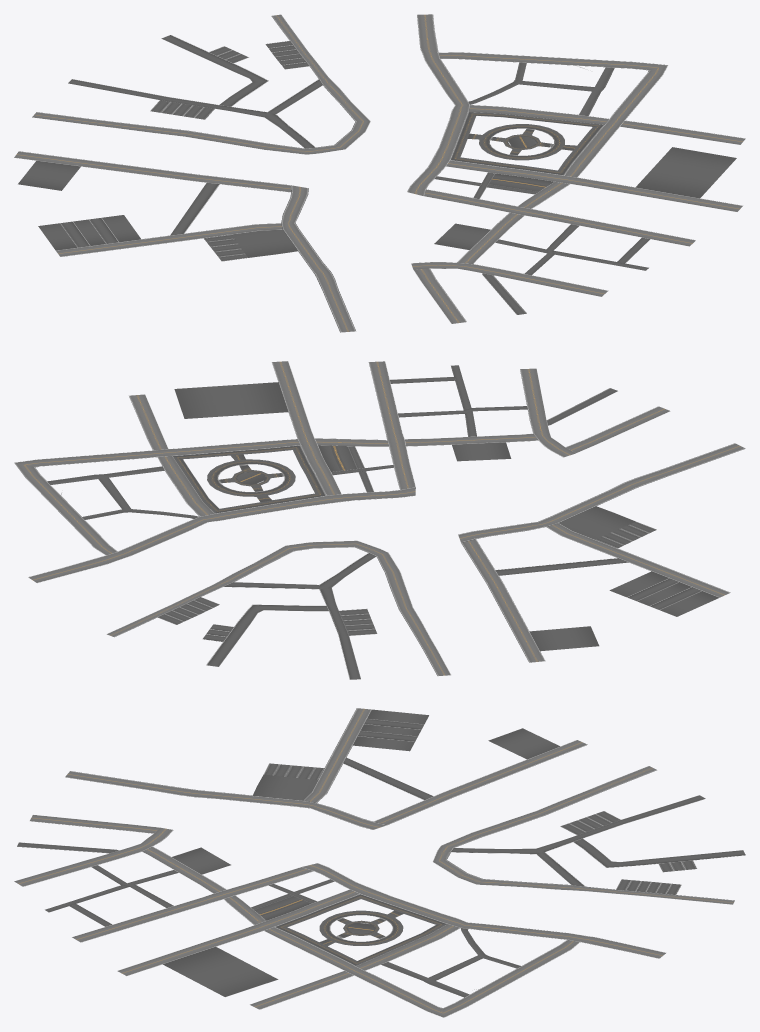
The model's file is SM_CityDiorama_Roads_01.fbx.
3 renders of one model, top to bottom at view 1: azimuth 30°, elevation 25°; view 2: azimuth 150°, elevation 25°; view 3: azimuth 270°, elevation 25°, orthographic. The views are drawn at different scales.
Parts seen in each view (by area): view 1: SM_CityDiorama_Roads_01; view 2: SM_CityDiorama_Roads_01; view 3: SM_CityDiorama_Roads_01.
Boxes of the visible parts, x1=… form: SM_CityDiorama_Roads_01: x1=14, y1=14, x2=745, y2=332; SM_CityDiorama_Roads_01: x1=14, y1=361, x2=745, y2=679; SM_CityDiorama_Roads_01: x1=14, y1=708, x2=745, y2=1017.
Bounding box in the file's own units: 25.74 × 0.0737 × 25.7.
